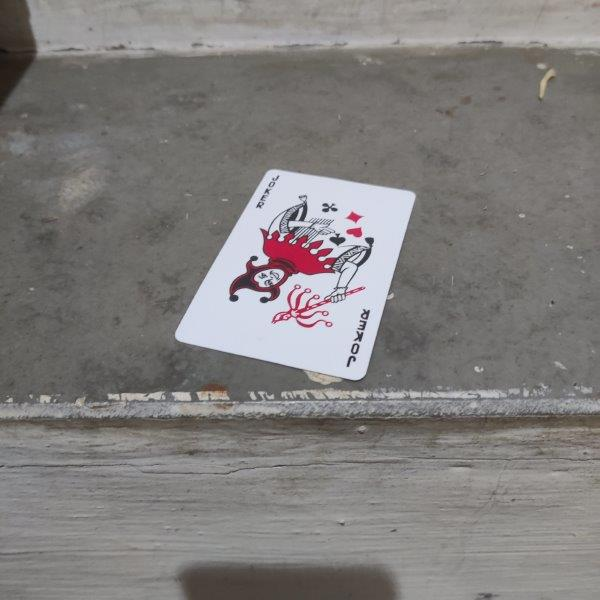Joker: (175, 169, 417, 382)
